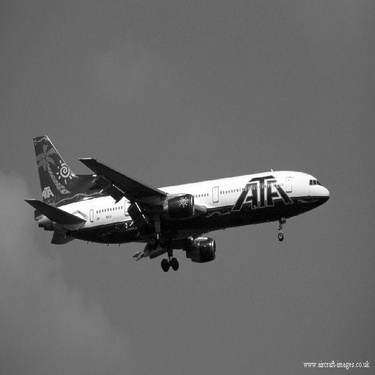airplane: (16, 132, 343, 277)
